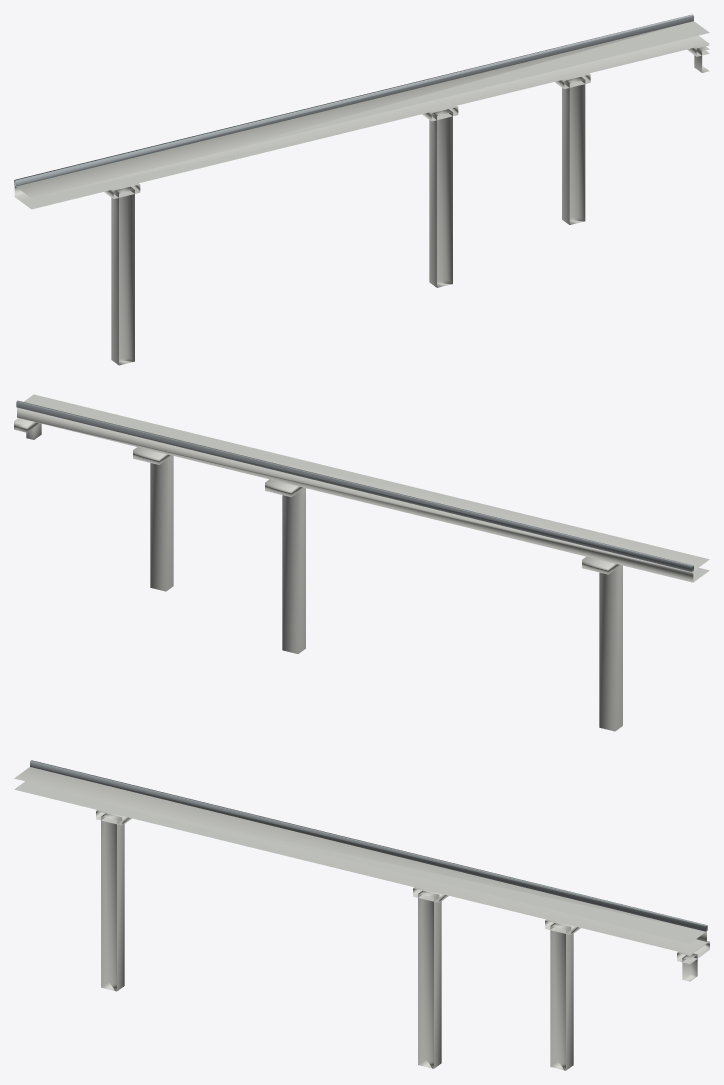
The model's file is alpine-9-11.glb.
The picture shows the model from 3 angles, top to bottom: view 1: azimuth 30°, elevation 25°; view 2: azimuth 150°, elevation 25°; view 3: azimuth 330°, elevation 25°; orthographic projection.
Parts seen in each view (by area): view 1: alpine-9-11; view 2: alpine-9-11; view 3: alpine-9-11.
Boxes of the visible parts, x1=… form: alpine-9-11: x1=14, y1=14, x2=709, y2=365; alpine-9-11: x1=14, y1=394, x2=709, y2=731; alpine-9-11: x1=14, y1=760, x2=709, y2=1070.
Bounding box in the file's own units: 256 × 69.98 × 13.
2 materials, 2 textured.
